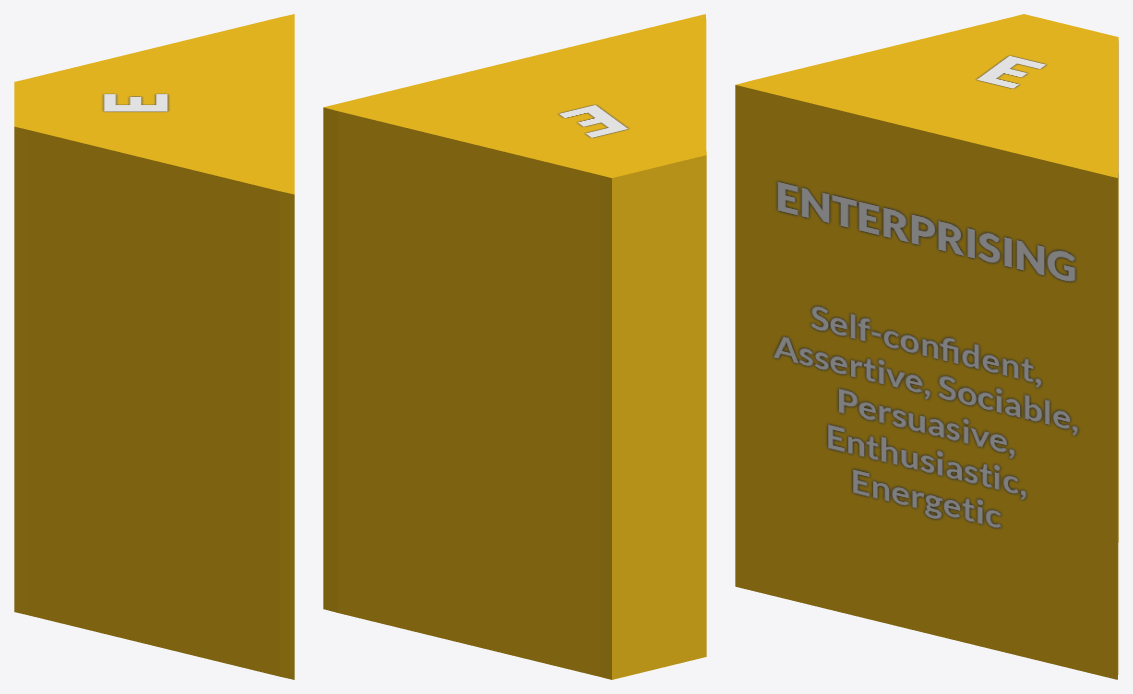
The model's file is emodel.glb.
The picture shows the model from 3 angles, left to right: view 1: azimuth 30°, elevation 25°; view 2: azimuth 150°, elevation 25°; view 3: azimuth 270°, elevation 25°; orthographic projection. The views are drawn at different scales.
Parts seen in each view (by area): view 1: Object009; view 2: Object009; view 3: Object009.
Part boxes in pixels (box(x1,y1,x2,y2)): Object009: box(14, 14, 294, 679); Object009: box(323, 14, 706, 679); Object009: box(735, 14, 1118, 679).
Bounding box in the file's own units: 0.4373 × 0.6232 × 0.4315.
Materials: 1 (1 with a texture image).
